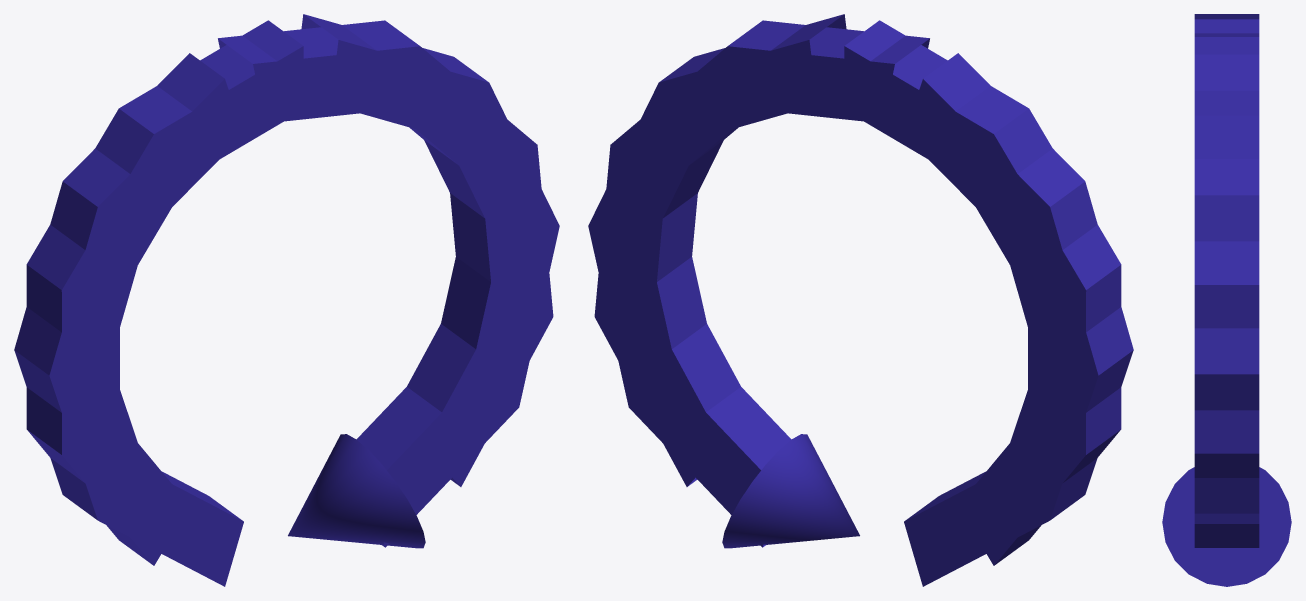
File: arrow.fbx
3 views of the same model, side by side, from view 1: azimuth 30°, elevation 25°; view 2: azimuth 150°, elevation 25°; view 3: azimuth 270°, elevation 25° (orthographic). The views are drawn at different scales.
Parts seen in each view (by area): view 1: pasted__arrowHead3; view 2: pasted__arrowHead3; view 3: pasted__arrowHead3.
Part boxes in pixels (left/top/right/bottom): pasted__arrowHead3: left=14, top=14, right=559, bottom=586; pasted__arrowHead3: left=588, top=14, right=1133, bottom=586; pasted__arrowHead3: left=1162, top=14, right=1291, bottom=586.
Size of the model in its own units: 4.18 by 4.23 by 1.
